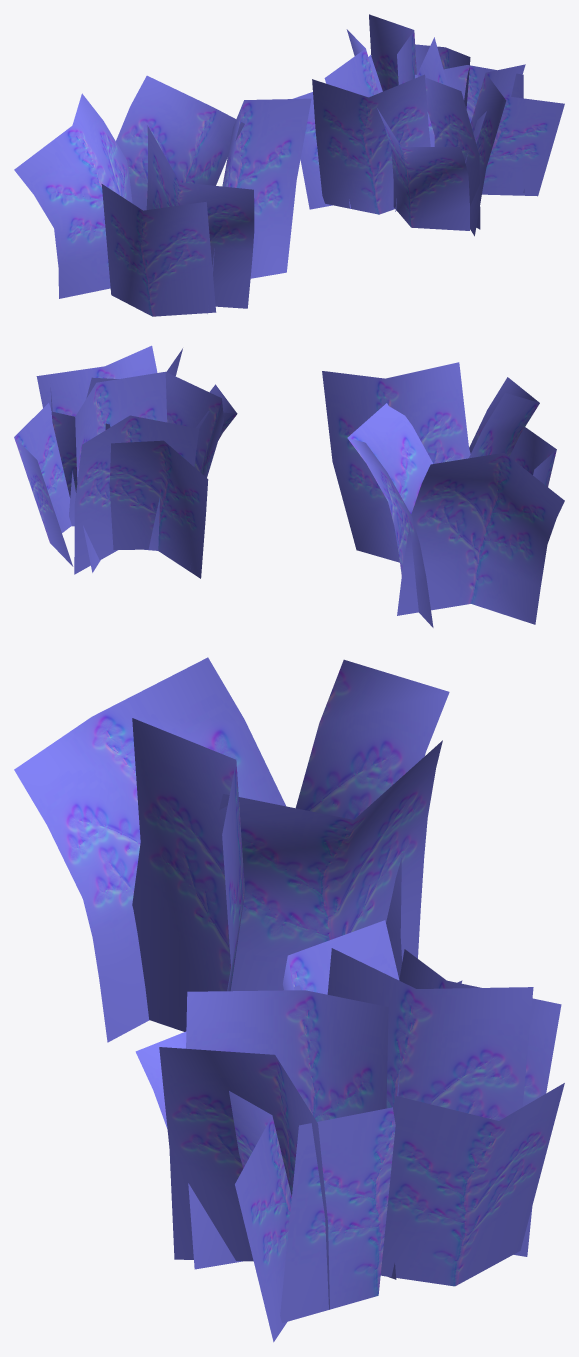
The model's file is Bushes03.fbx.
3 views of the same model, one above another, from view 1: azimuth 30°, elevation 25°; view 2: azimuth 150°, elevation 25°; view 3: azimuth 270°, elevation 25° (orthographic). The views are drawn at different scales.
Parts seen in each view (by area): view 1: ForestBush03LOD0, ForestBush04LOD0; view 2: ForestBush03LOD0, ForestBush04LOD0; view 3: ForestBush04LOD0, ForestBush03LOD0.
Part boxes in pixels (x1,y1,x2,y2): ForestBush03LOD0: (14,75,311,316); ForestBush04LOD0: (293,14,564,236); ForestBush03LOD0: (322,362,564,627); ForestBush04LOD0: (14,345,237,578); ForestBush04LOD0: (135,920,564,1342); ForestBush03LOD0: (14,657,449,1042).
Size of what is drawn, in the model's own units: 529 by 179 by 272.
